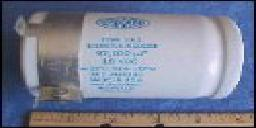Electrolytic Capacitor: (9, 5, 256, 110)
